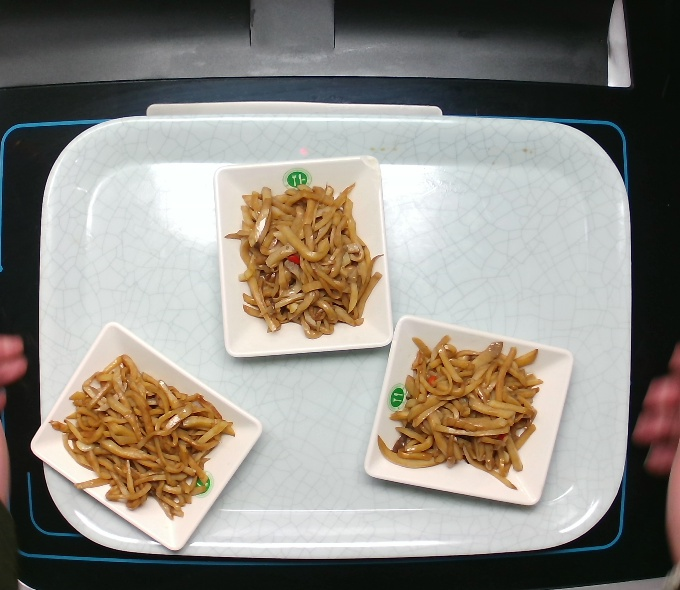wcq-LiangBanMoGu: (43, 350, 242, 524), (375, 331, 549, 495), (219, 177, 386, 343)
